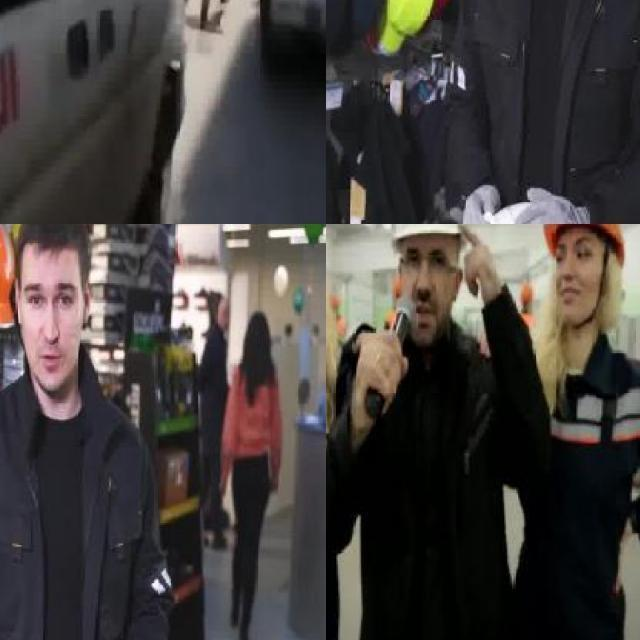apron: (512, 182, 593, 224), (462, 185, 500, 224)
